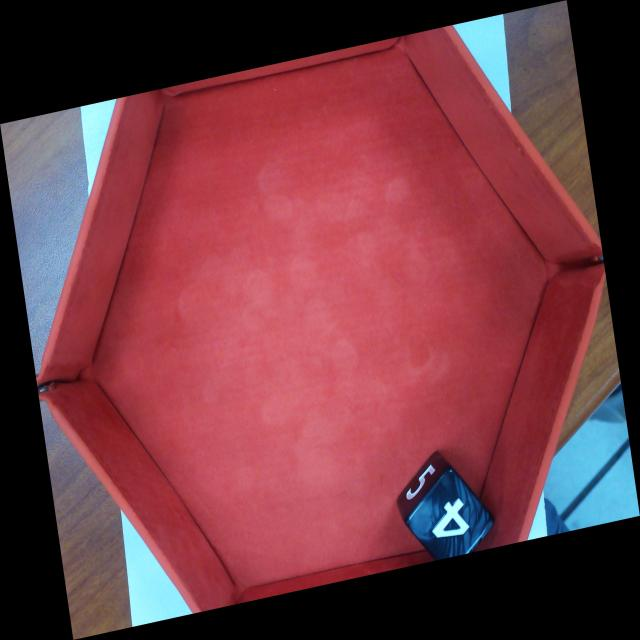dice: (403, 463, 499, 562)
